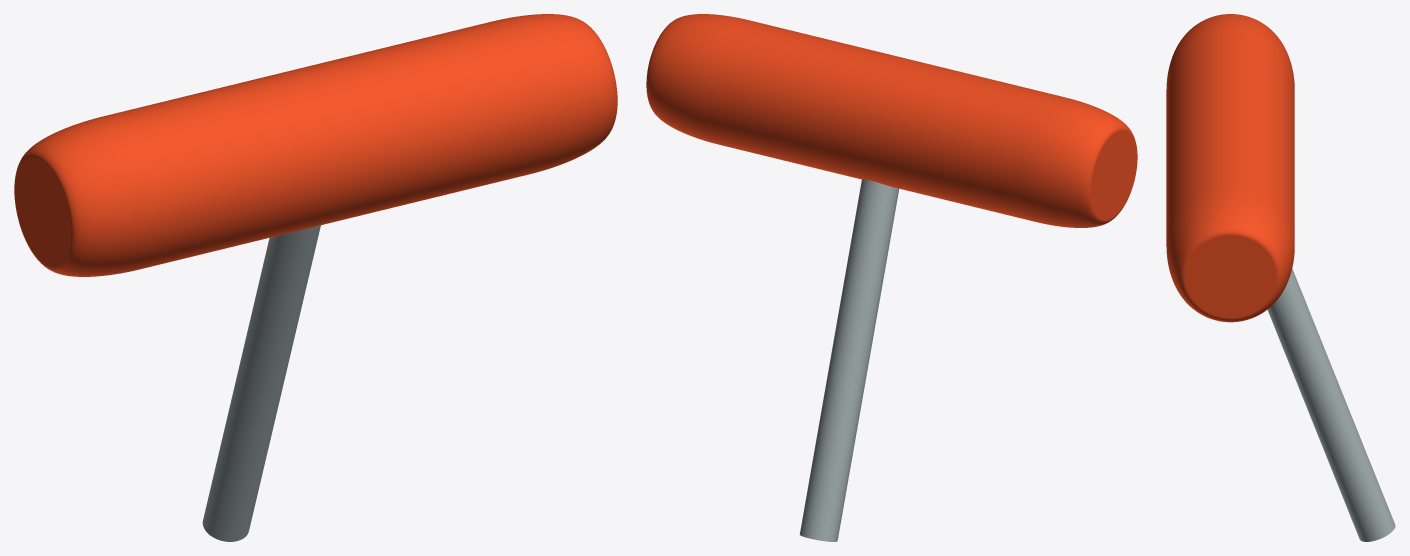
File: Lever_Red.glb
The picture shows the model from 3 angles, left to right: view 1: azimuth 30°, elevation 25°; view 2: azimuth 150°, elevation 25°; view 3: azimuth 270°, elevation 25°; orthographic projection. The views are drawn at different scales.
Visible parts, largest first — view 1: Lever Top, Lever Body; view 2: Lever Top, Lever Body; view 3: Lever Top, Lever Body.
Boxes of the visible parts, x1,y1,x2,y2 form: Lever Top: (14,14,617,276); Lever Body: (202,225,320,541); Lever Top: (646,14,1137,227); Lever Body: (799,179,899,541); Lever Top: (1166,14,1294,322); Lever Body: (1267,268,1395,541).
Size of the model in its own units: 0.2 by 0.1839 by 0.0892.
